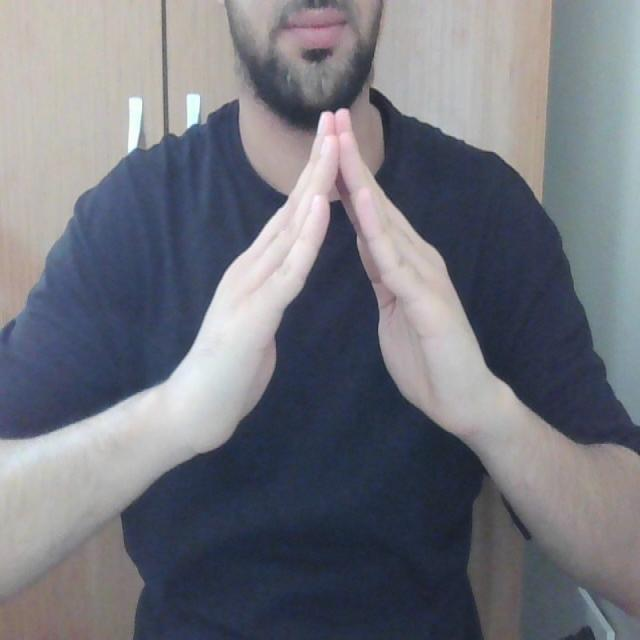Ev: (169, 109, 492, 452)
